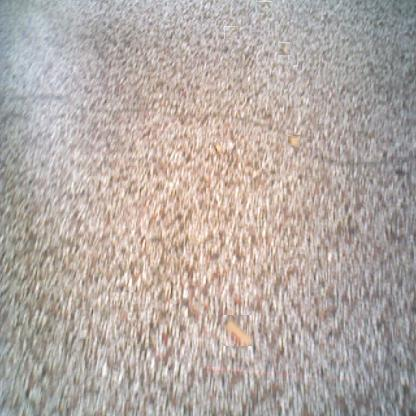dirty: (222, 314, 252, 346), (224, 26, 237, 39), (278, 43, 291, 55), (288, 135, 300, 147), (213, 142, 223, 154), (258, 1, 272, 8)
